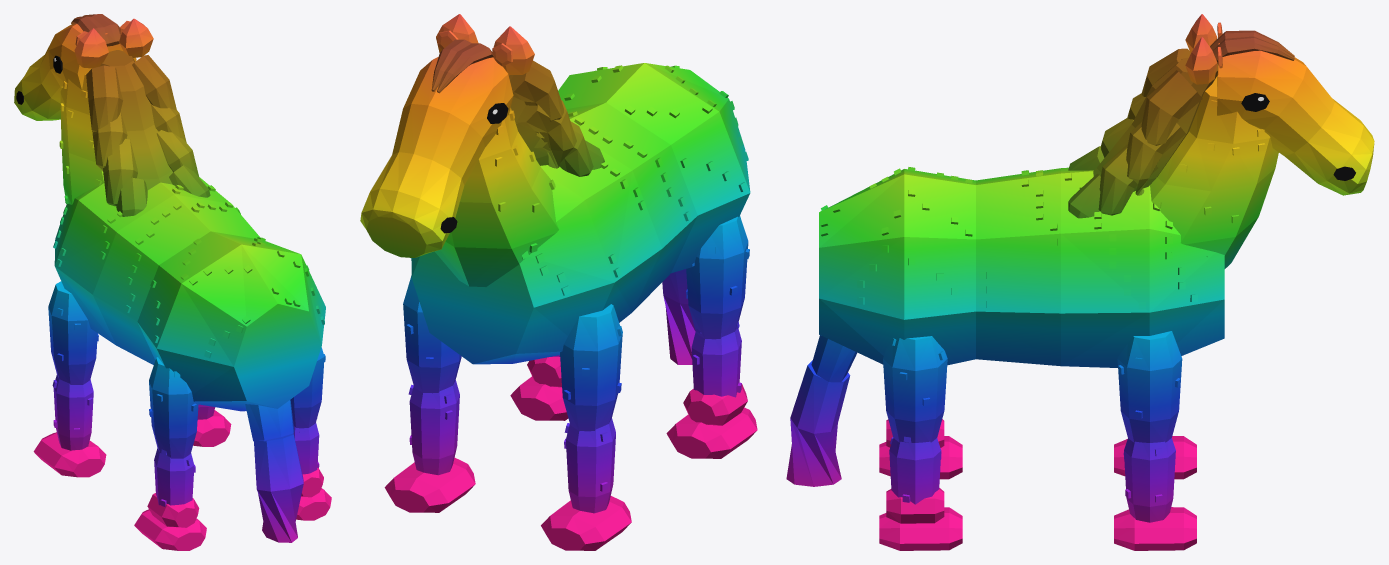
The model's file is Horse.fbx.
The picture shows the model from 3 angles, left to right: view 1: azimuth 30°, elevation 25°; view 2: azimuth 150°, elevation 25°; view 3: azimuth 270°, elevation 25°; orthographic projection. The views are drawn at different scales.
Visible parts, largest first — view 1: Import3D_Core, Import3D_Neck, Import3D_Head, Import3D_KneeBL, Import3D_KneeFL, Import3D_TailTip, Import3D_LegBL, Import3D_LegFL, Import3D_KneeBR, Import3D_Tail, Import3D_LegBR, Import3D_KneeFR (+2 smaller); view 2: Import3D_Core, Import3D_Head, Import3D_Neck, Import3D_KneeBL, Import3D_KneeFR, Import3D_KneeFL, Import3D_LegFL, Import3D_LegBL, Import3D_LegFR, Import3D_KneeBR, Import3D_TailTip, Import3D_EarL (+1 smaller); view 3: Import3D_Core, Import3D_Neck, Import3D_Head, Import3D_KneeBR, Import3D_KneeFR, Import3D_LegFR, Import3D_LegBR, Import3D_TailTip, Import3D_KneeBL, Import3D_Tail, Import3D_KneeFL, Import3D_EarR (+1 smaller).
Part boxes in pixels (x1=…): Import3D_Core: x1=53, y1=177, x2=325, y2=411; Import3D_Neck: x1=59, y1=50, x2=210, y2=216; Import3D_Head: x1=14, y1=14, x2=136, y2=120; Import3D_KneeBL: x1=134, y1=448, x2=206, y2=550; Import3D_KneeFL: x1=33, y1=375, x2=106, y2=477; Import3D_TailTip: x1=254, y1=433, x2=303, y2=542; Import3D_LegBL: x1=149, y1=357, x2=198, y2=458; Import3D_LegFL: x1=48, y1=281, x2=98, y2=384; Import3D_KneeBR: x1=293, y1=418, x2=331, y2=520; Import3D_Tail: x1=245, y1=399, x2=294, y2=441; Import3D_LegBR: x1=290, y1=347, x2=325, y2=428; Import3D_KneeFR: x1=193, y1=404, x2=231, y2=446; Import3D_Core: x1=411, y1=63, x2=750, y2=364; Import3D_Head: x1=360, y1=39, x2=513, y2=257; Import3D_Neck: x1=435, y1=60, x2=604, y2=286; Import3D_KneeBL: x1=666, y1=321, x2=757, y2=458; Import3D_KneeFR: x1=384, y1=380, x2=475, y2=512; Import3D_KneeFL: x1=541, y1=418, x2=631, y2=550; Import3D_LegFL: x1=560, y1=304, x2=622, y2=431; Import3D_LegBL: x1=686, y1=216, x2=749, y2=339; Import3D_LegFR: x1=403, y1=275, x2=461, y2=393; Import3D_KneeBR: x1=510, y1=355, x2=568, y2=420; Import3D_TailTip: x1=662, y1=269, x2=695, y2=364; Import3D_EarL: x1=492, y1=26, x2=534, y2=75; Import3D_Core: x1=819, y1=167, x2=1224, y2=367; Import3D_Neck: x1=1068, y1=48, x2=1278, y2=268; Import3D_Head: x1=1210, y1=30, x2=1374, y2=195; Import3D_KneeBR: x1=879, y1=436, x2=962, y2=550; Import3D_KneeFR: x1=1114, y1=438, x2=1196, y2=550; Import3D_LegFR: x1=1117, y1=331, x2=1182, y2=442; Import3D_LegBR: x1=883, y1=336, x2=947, y2=442; Import3D_TailTip: x1=786, y1=360, x2=850, y2=486; Import3D_KneeBL: x1=879, y1=419, x2=962, y2=479; Import3D_Tail: x1=811, y1=335, x2=857, y2=382; Import3D_KneeFL: x1=1114, y1=436, x2=1196, y2=479; Import3D_EarR: x1=1185, y1=37, x2=1222, y2=84.
Size of the model in its own units: 129 by 289 by 319.
1 material, 1 textured.
